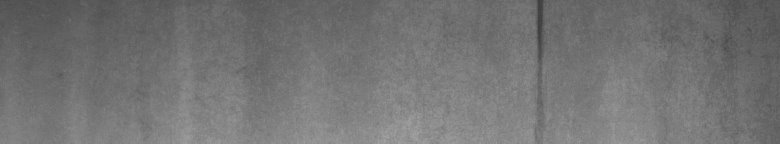hd: (525, 4, 550, 126)
